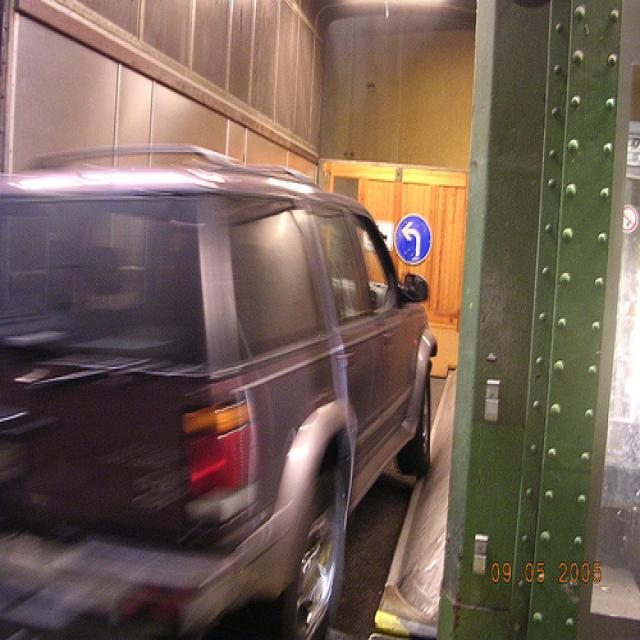Car: (0, 148, 440, 639)
